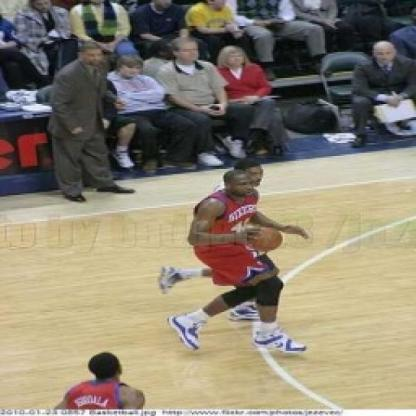basketball: (241, 224, 282, 253)
